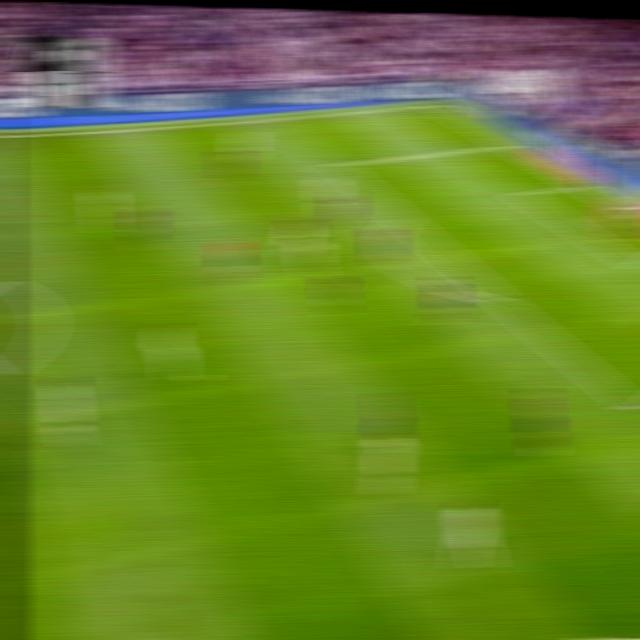bigarea_bottom_inner: (621, 393, 640, 419)
bigarea_top_inner: (327, 156, 349, 172)
bottom_arc_area_intersection: (488, 290, 513, 309)
corner: (424, 99, 449, 111)
smallarea_top_inner: (511, 188, 532, 199)
top_arc_area_intersection: (390, 210, 413, 225)
